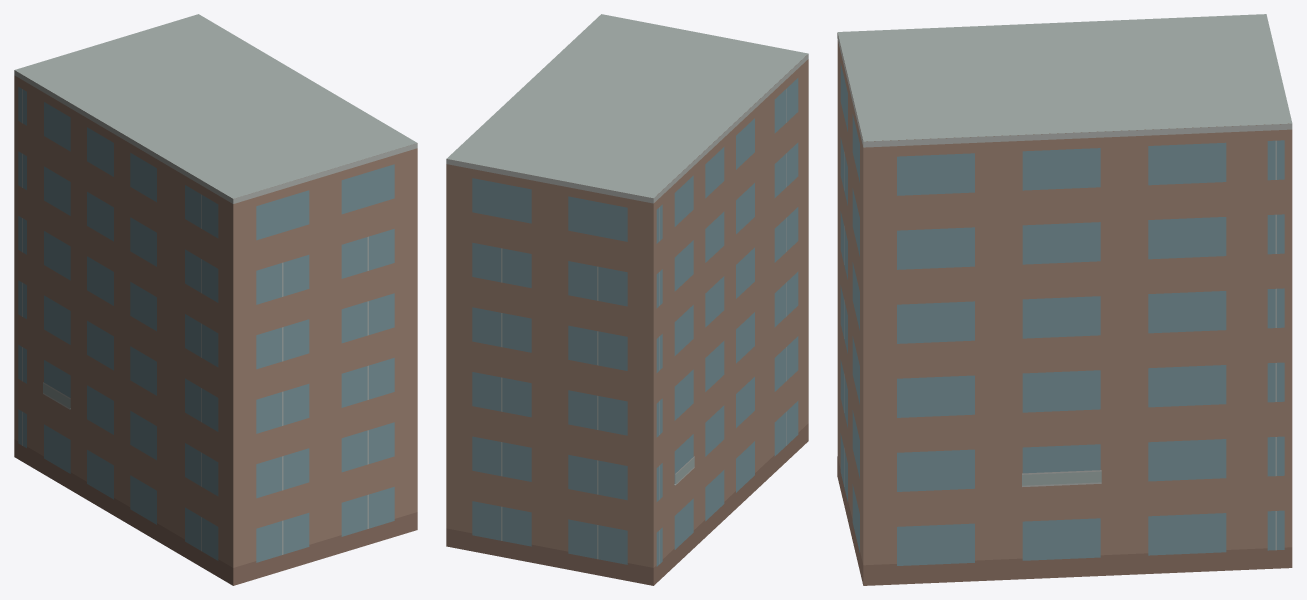
Rendered from survey-upis-32927487.glb.
3 views of the same model, side by side, from view 1: azimuth 30°, elevation 25°; view 2: azimuth 150°, elevation 25°; view 3: azimuth 270°, elevation 25° (orthographic). The views are drawn at different scales.
Parts seen in each view (by area): view 1: survey-upis-32927487.tmp; view 2: survey-upis-32927487.tmp; view 3: survey-upis-32927487.tmp.
Boxes of the visible parts, x1,y1,x2,y2 form: survey-upis-32927487.tmp: (14, 14, 417, 585); survey-upis-32927487.tmp: (446, 14, 808, 585); survey-upis-32927487.tmp: (837, 14, 1292, 585).
Bounding box in the file's own units: 11.12 × 18.05 × 16.76.
